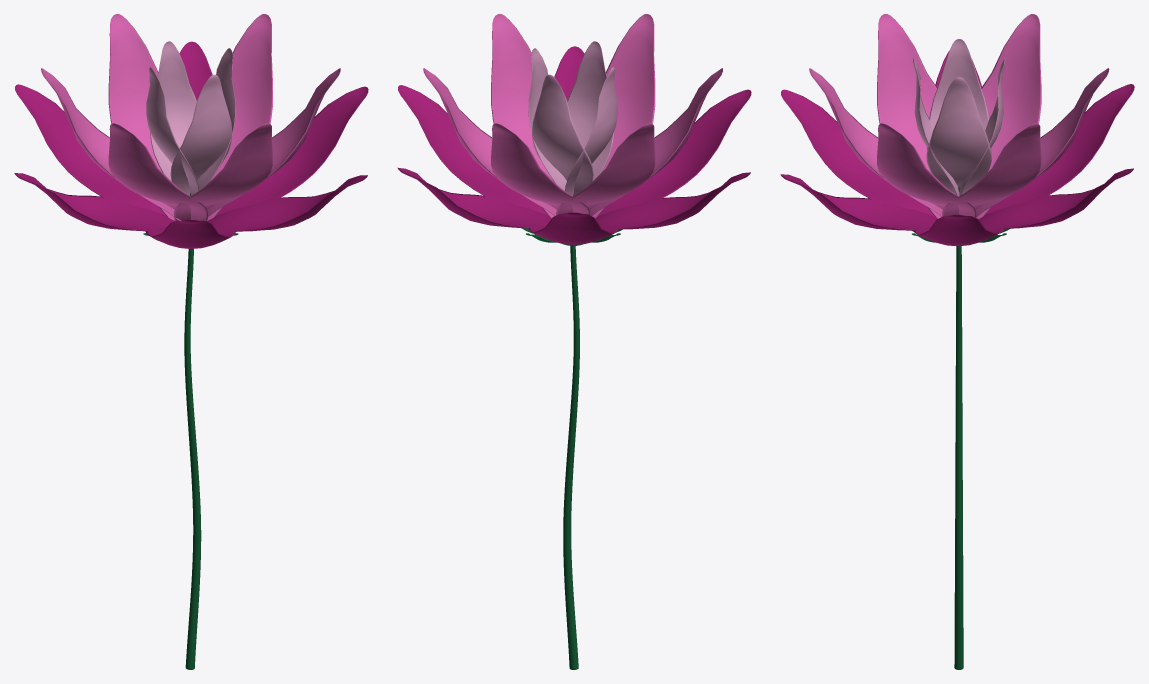
Rendered from Wunderblume.glb.
The picture shows the model from 3 angles, left to right: view 1: azimuth 30°, elevation 25°; view 2: azimuth 150°, elevation 25°; view 3: azimuth 270°, elevation 25°; orthographic projection.
Parts seen in each view (by area): view 1: UV-Kugel, Röhre; view 2: UV-Kugel, Röhre; view 3: UV-Kugel, Röhre.
Part boxes in pixels (x1,y1,x2,y2): UV-Kugel: (14, 14, 368, 248); Röhre: (184, 193, 201, 669); UV-Kugel: (397, 14, 751, 244); Röhre: (563, 194, 579, 669); UV-Kugel: (780, 14, 1134, 246); Röhre: (954, 187, 963, 669).
Size of the model in its own units: 0.4067 by 0.675 by 0.355.
